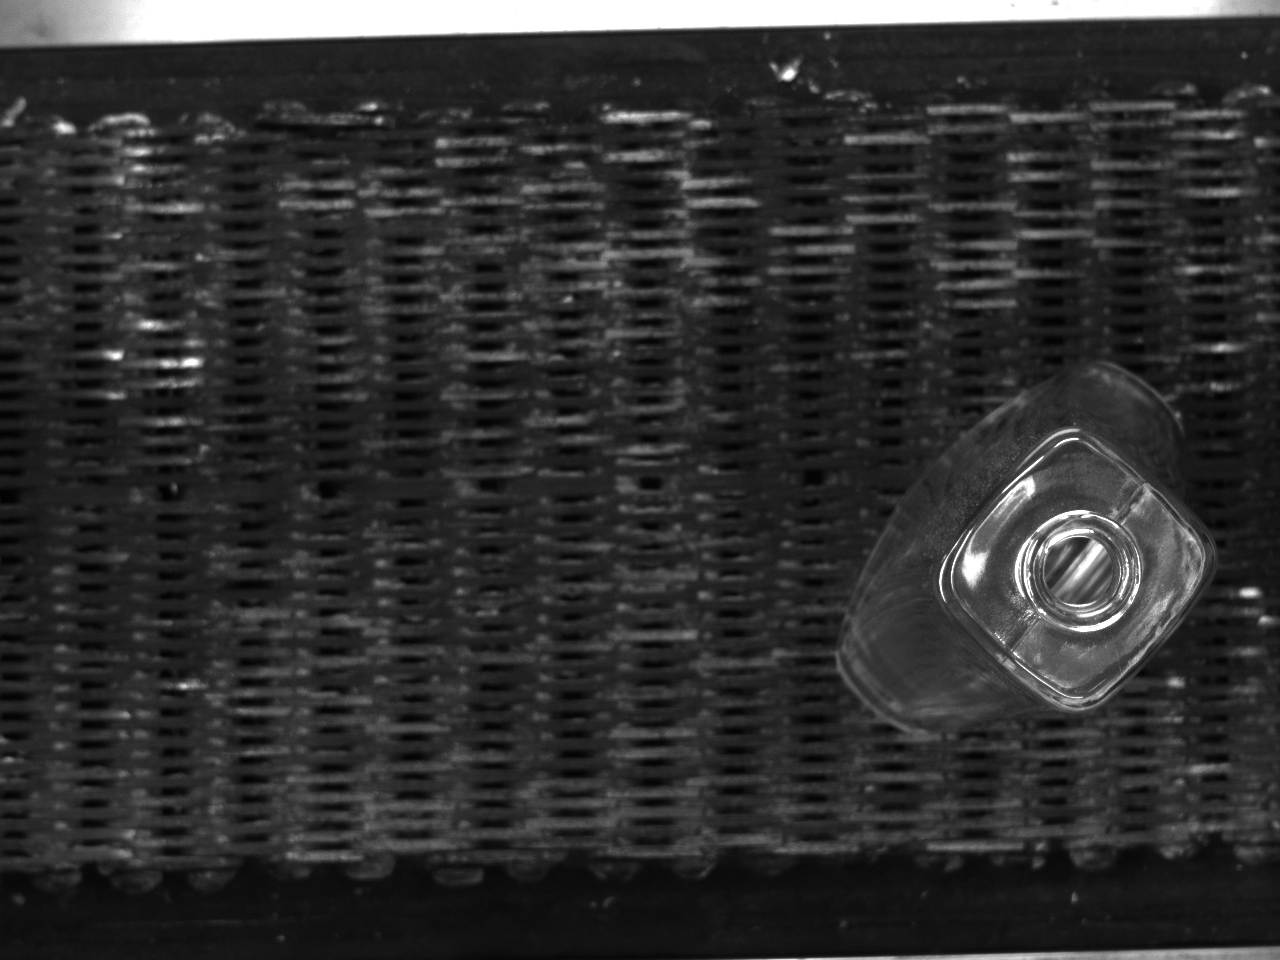bottleneck: (1021, 510, 1142, 631)
